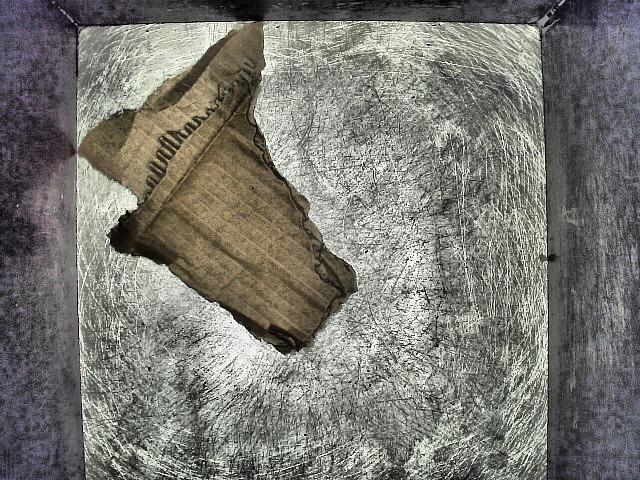Paper: (67, 17, 361, 368)
